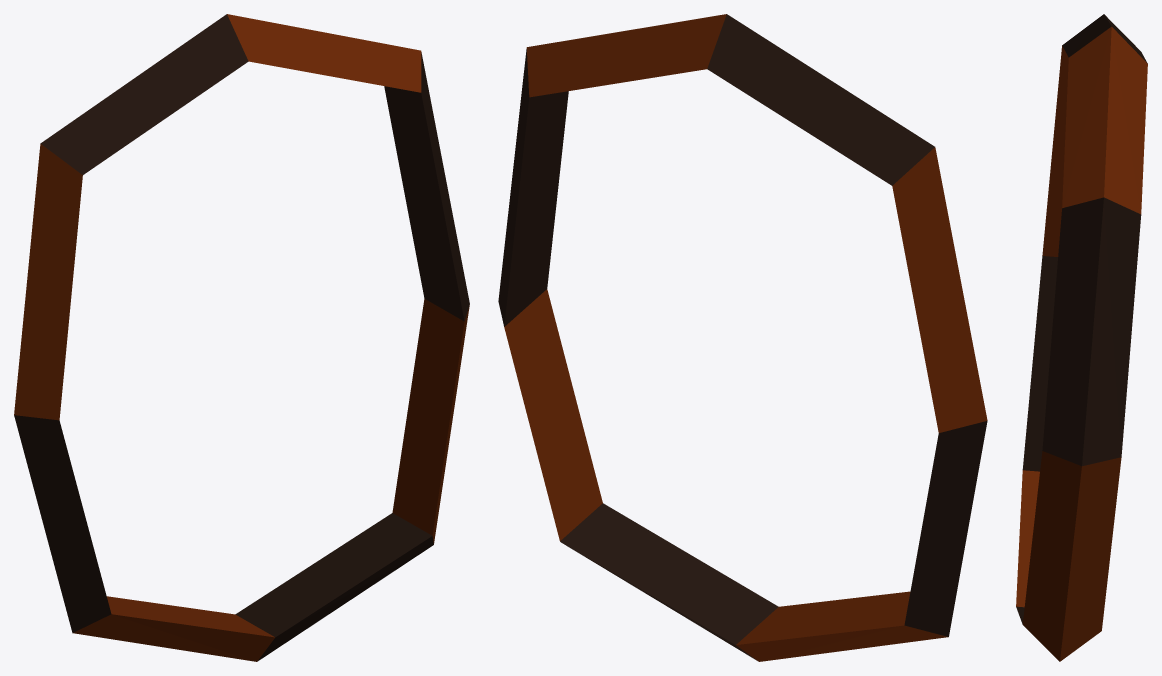
File: Headband 01.FBX
3 views of the same model, side by side, from view 1: azimuth 30°, elevation 25°; view 2: azimuth 150°, elevation 25°; view 3: azimuth 270°, elevation 25° (orthographic). The views are drawn at different scales.
Visible parts, largest first — view 1: Headband 01; view 2: Headband 01; view 3: Headband 01.
Boxes of the visible parts, x1,y1,x2,y2 form: Headband 01: [14, 14, 469, 661]; Headband 01: [498, 14, 987, 661]; Headband 01: [1016, 14, 1147, 661].
Bounding box in the file's own units: 31.23 × 40.98 × 7.93.
1 material, 1 textured.
